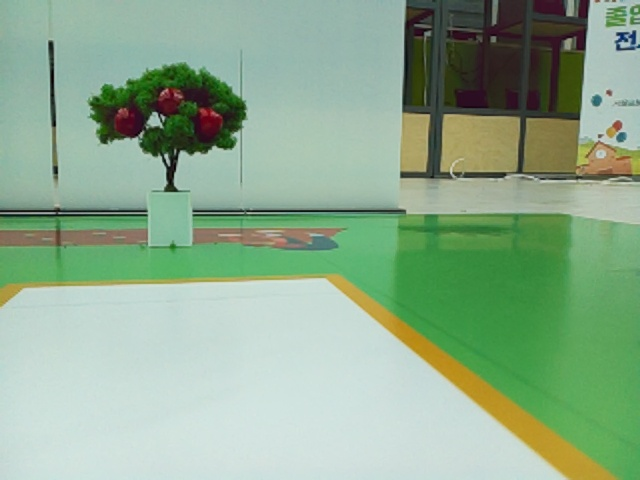apple: (199, 107, 223, 133), (158, 88, 182, 112), (114, 108, 133, 135)
